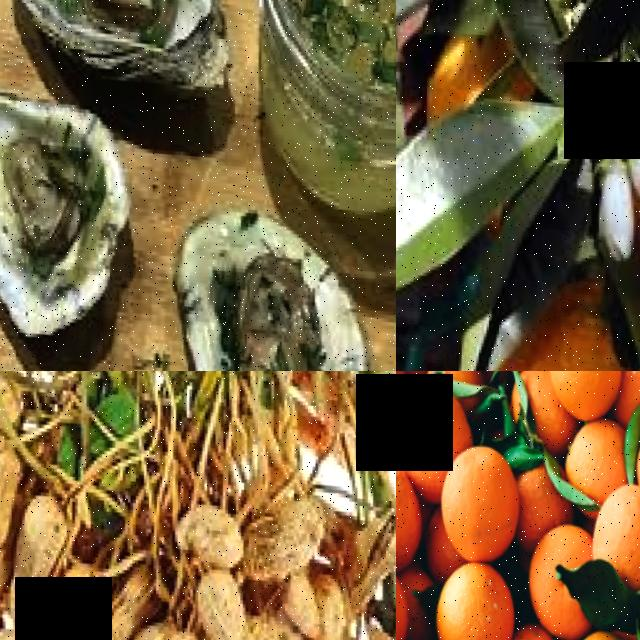orange: (439, 432, 528, 560), (479, 302, 640, 371), (433, 550, 520, 640), (528, 514, 586, 631), (396, 372, 473, 454), (564, 409, 632, 489), (589, 469, 640, 566), (396, 455, 427, 561), (547, 371, 625, 411), (576, 616, 634, 640)
oysters: (187, 188, 372, 371), (0, 71, 128, 314), (0, 0, 226, 89)
peanuts: (245, 480, 326, 564), (14, 486, 67, 610), (39, 551, 102, 640), (194, 559, 260, 640), (171, 488, 245, 557), (0, 440, 25, 556), (249, 609, 308, 640)
